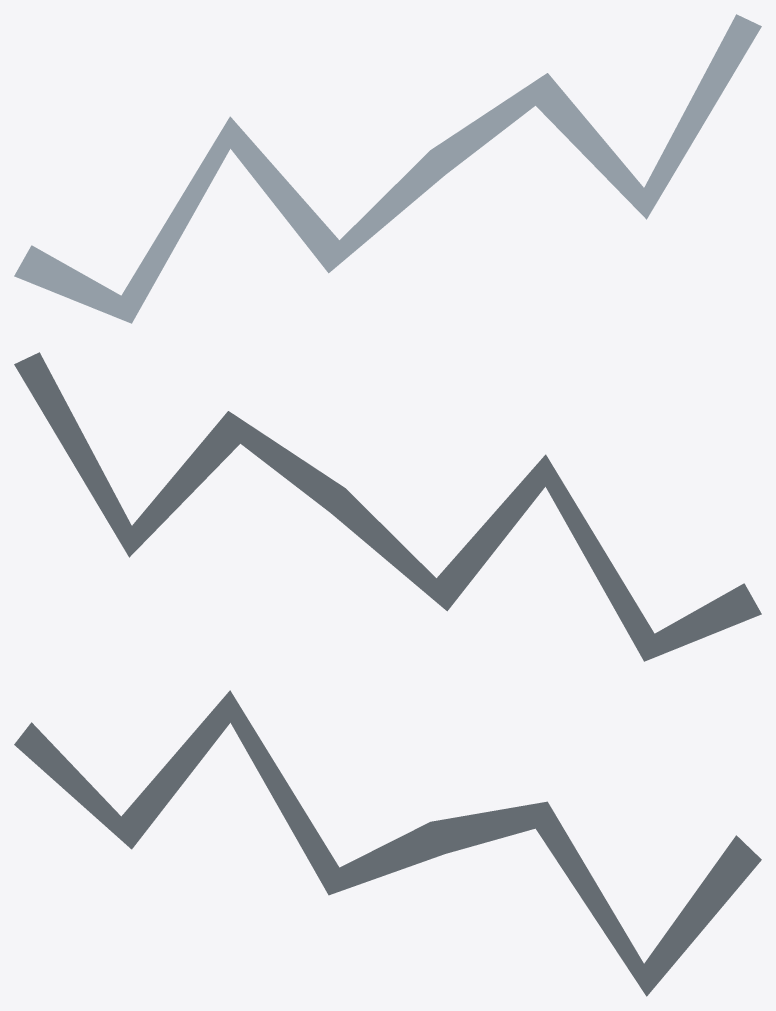
File: ElementalGround_Electro_GroundArc91.fbx
3 renders of one model, top to bottom at view 1: azimuth 30°, elevation 25°; view 2: azimuth 150°, elevation 25°; view 3: azimuth 330°, elevation 25°, orthographic.
Visible parts, largest first — view 1: PART_GroundArc91; view 2: PART_GroundArc91; view 3: PART_GroundArc91.
Boxes of the visible parts, bbox=[...] form: PART_GroundArc91: bbox=[14, 14, 761, 323]; PART_GroundArc91: bbox=[14, 352, 761, 661]; PART_GroundArc91: bbox=[14, 690, 761, 996].
Size of the model in its own units: 72.08 by 18.9 by 3.08e-06.
